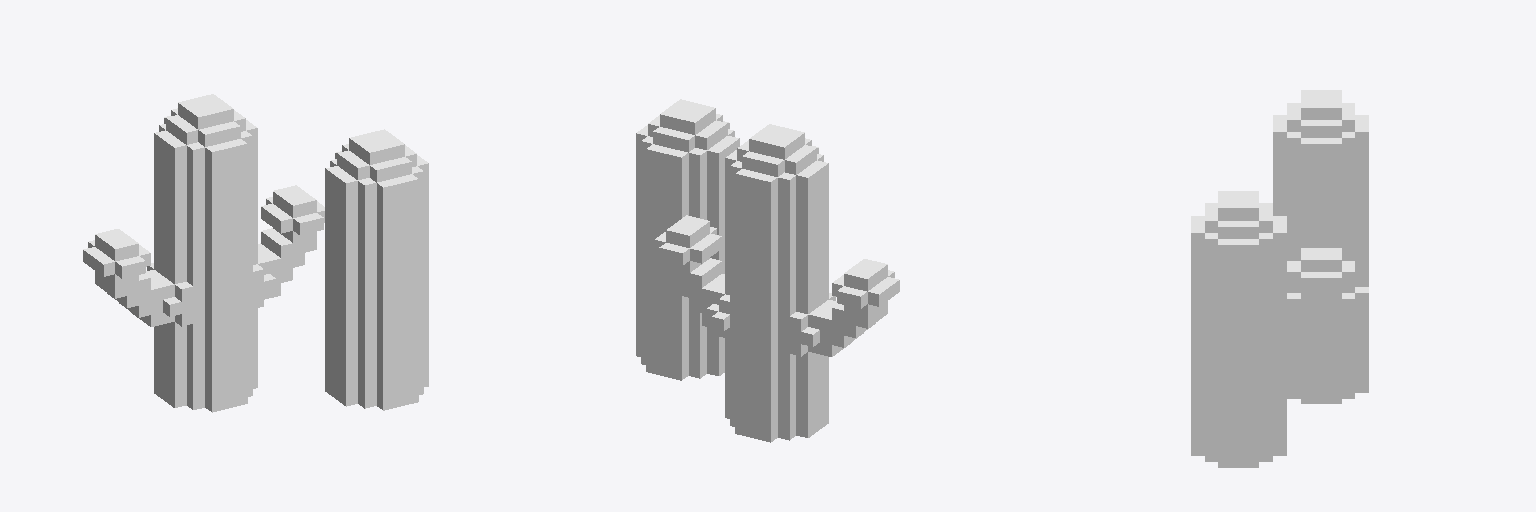
The model's file is 2mediumcactus.obj.
3 views of the same model, side by side, from view 1: azimuth 30°, elevation 25°; view 2: azimuth 150°, elevation 25°; view 3: azimuth 270°, elevation 25° (orthographic).
Parts seen in each view (by area): view 1: object 1; view 2: object 1; view 3: object 1.
Part boxes in pixels (left/top/right/bottom): object 1: left=83, top=94, right=428, bottom=412; object 1: left=636, top=99, right=899, bottom=442; object 1: left=1191, top=90, right=1368, bottom=467.
Size of the model in its own units: 2.4 by 2.3 by 1.3.